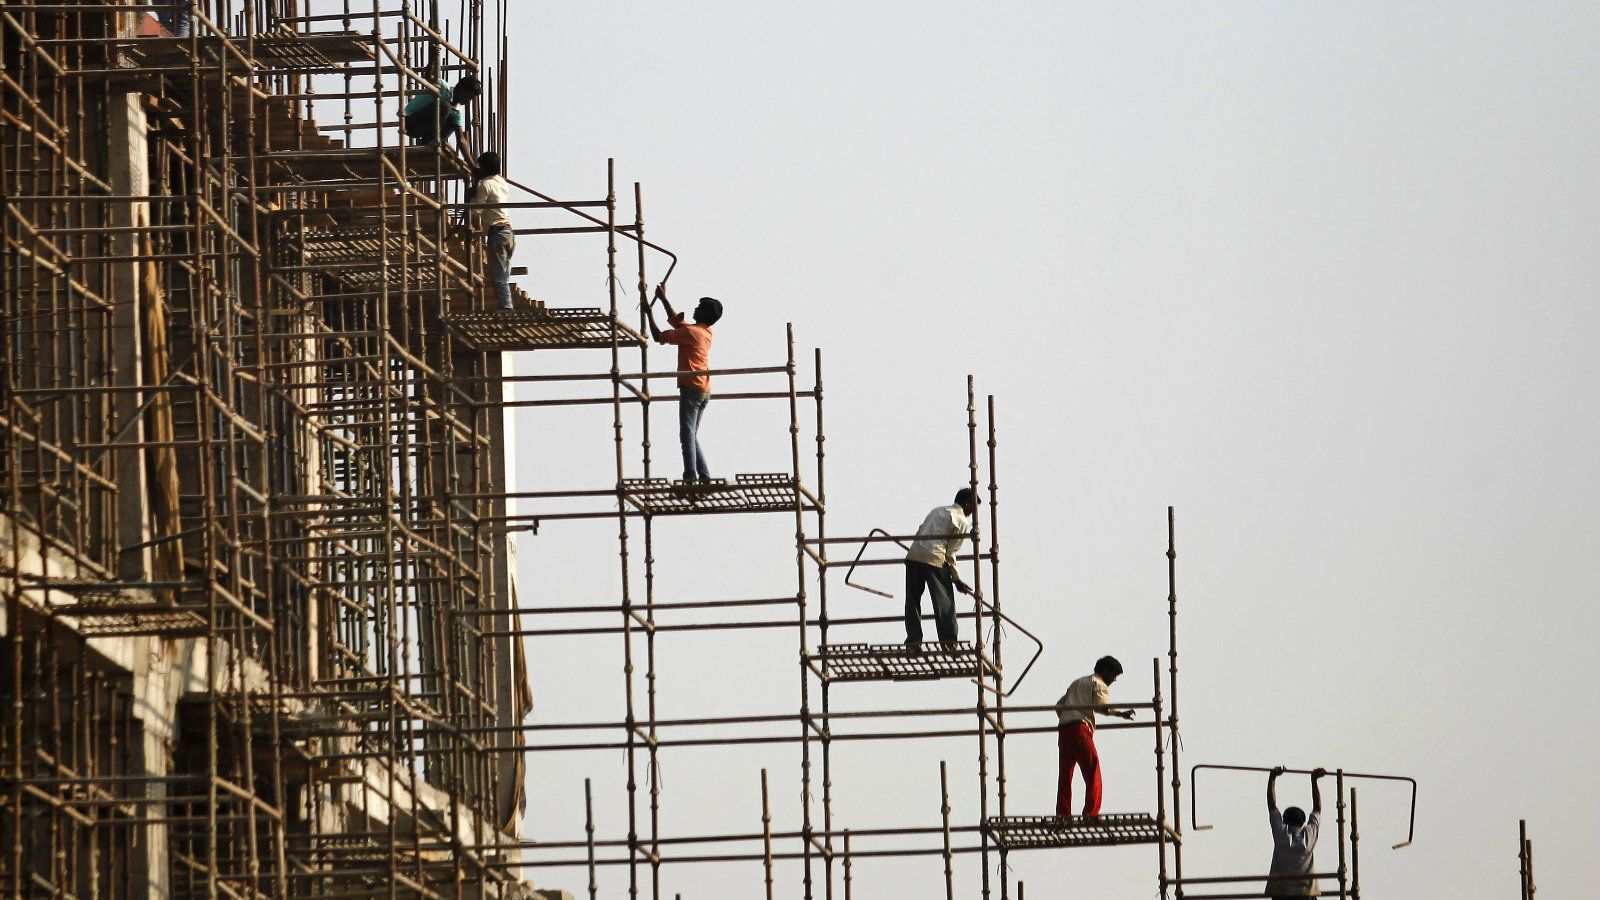NOTSAFE: (908, 482, 984, 578), (670, 292, 727, 403), (1060, 647, 1122, 746)
